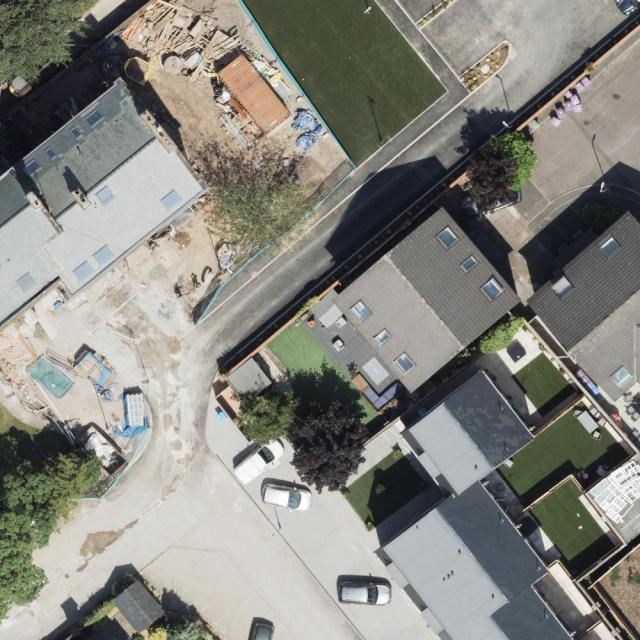roof: (0, 76, 213, 328), (384, 370, 576, 640), (338, 208, 522, 395), (526, 207, 640, 402), (112, 578, 166, 634)
skylight: (476, 276, 506, 303), (434, 225, 461, 250), (349, 298, 375, 323), (608, 362, 633, 387), (552, 276, 574, 302), (14, 271, 37, 294), (81, 107, 106, 128), (72, 260, 94, 283), (599, 236, 622, 258), (92, 244, 114, 266), (396, 353, 416, 376), (460, 254, 481, 275), (161, 190, 182, 210), (95, 186, 113, 207), (24, 155, 42, 175), (376, 328, 392, 346), (42, 145, 58, 160), (67, 126, 84, 140)
